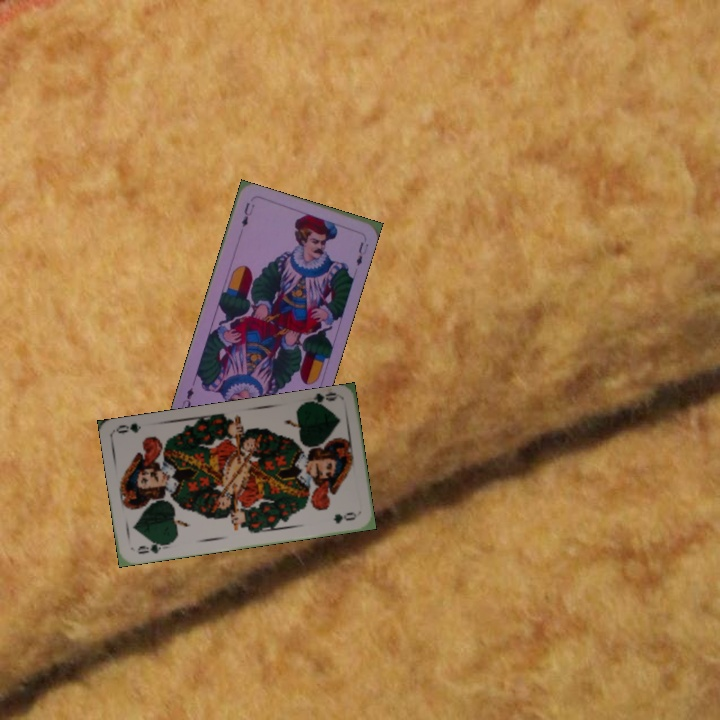EU: (237, 198, 257, 230)
GO: (300, 388, 340, 410), (134, 538, 172, 556)
